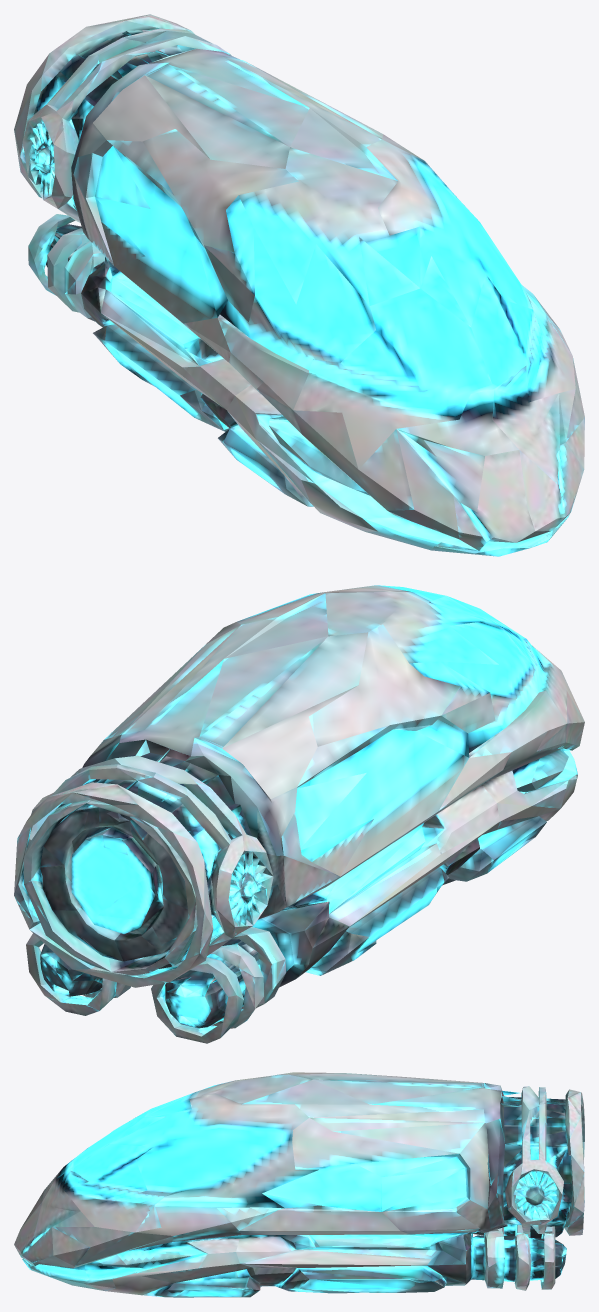
The model's file is train-sky.glb.
3 views of the same model, one above another, from view 1: azimuth 30°, elevation 25°; view 2: azimuth 150°, elevation 25°; view 3: azimuth 270°, elevation 25° (orthographic). The views are drawn at different scales.
Visible parts, largest first — view 1: Mesh_0; view 2: Mesh_0; view 3: Mesh_0.
Part boxes in pixels (<box>): Mesh_0: <box>14,14,584,556</box>; Mesh_0: <box>14,585,584,1043</box>; Mesh_0: <box>14,1072,584,1297</box>.
Size of the model in its own units: 0.6566 by 0.6 by 1.69.
1 material, 1 textured.
